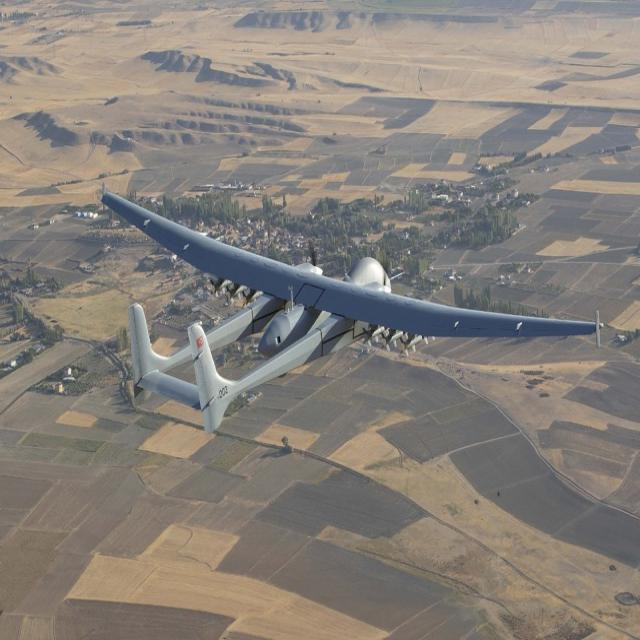iha: (100, 190, 605, 438)
